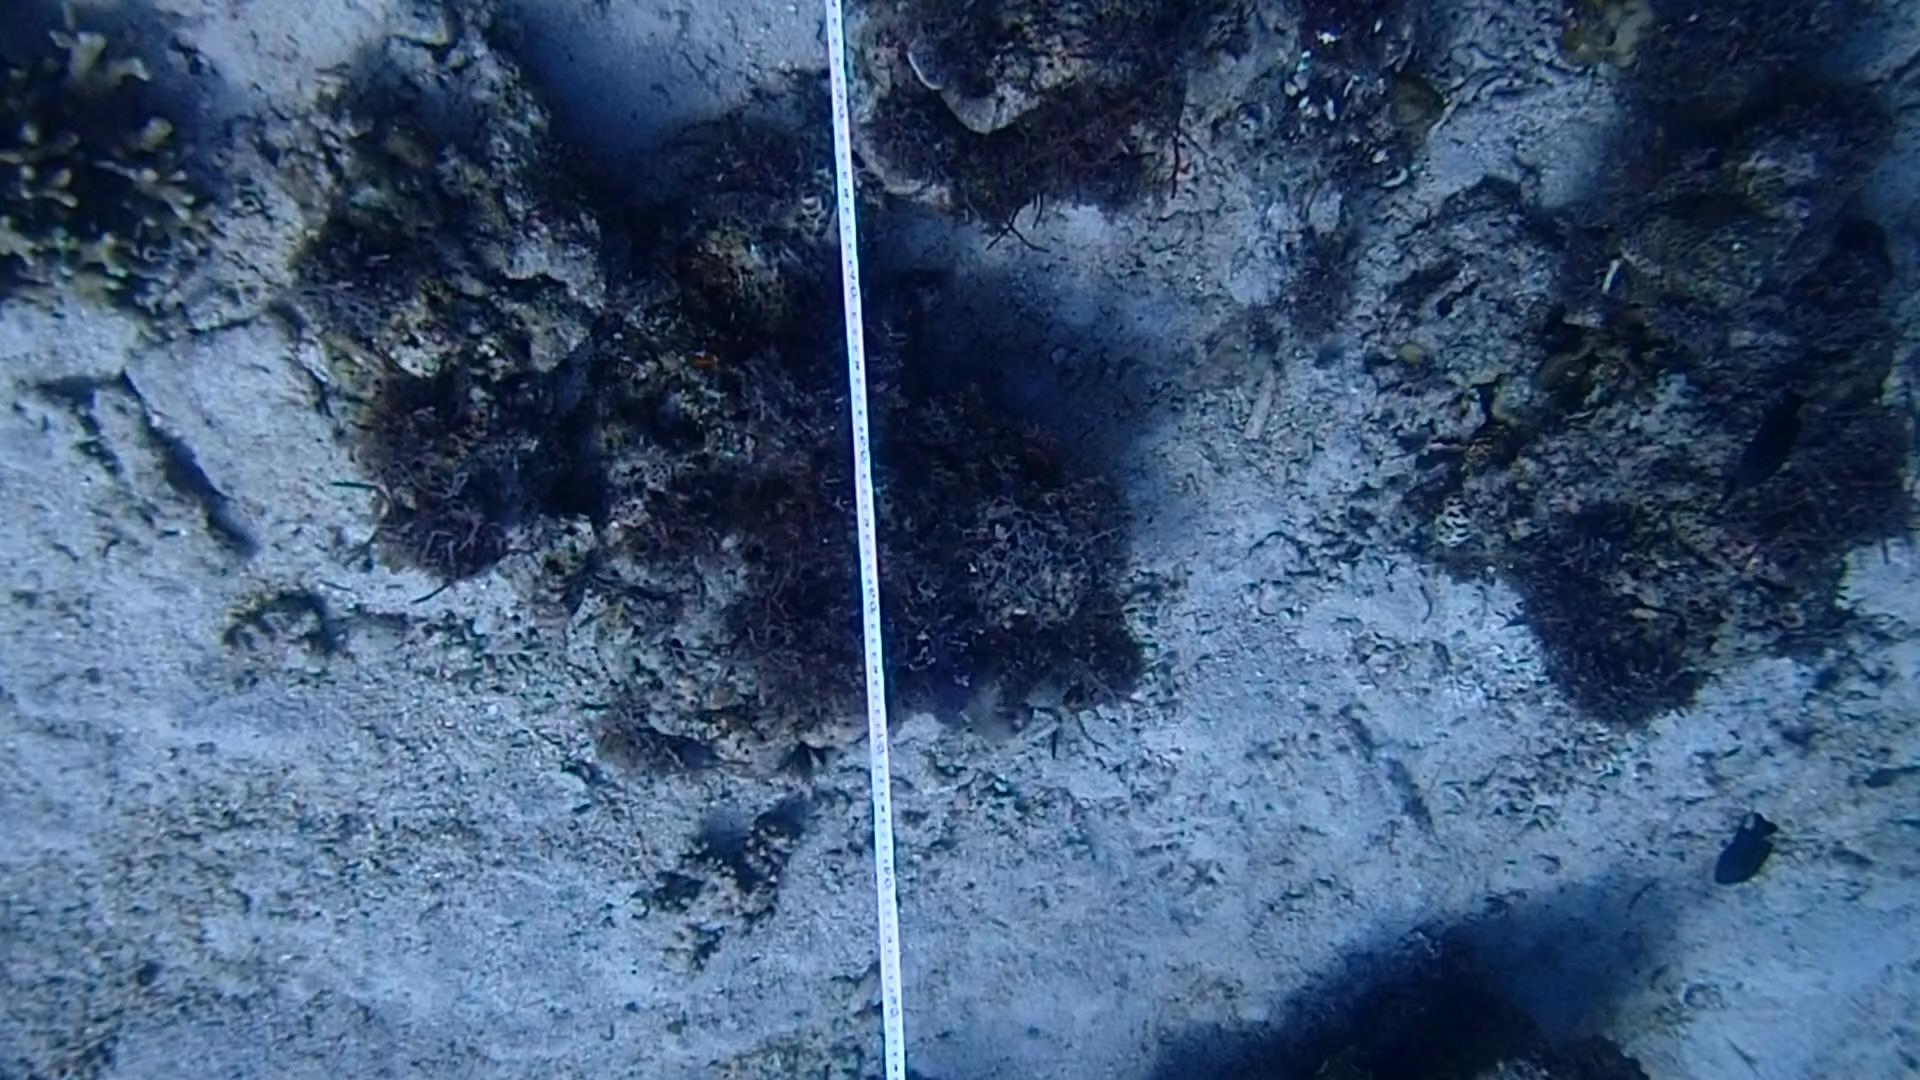Dark Fish: (1722, 396, 1815, 506), (1701, 798, 1796, 898)
